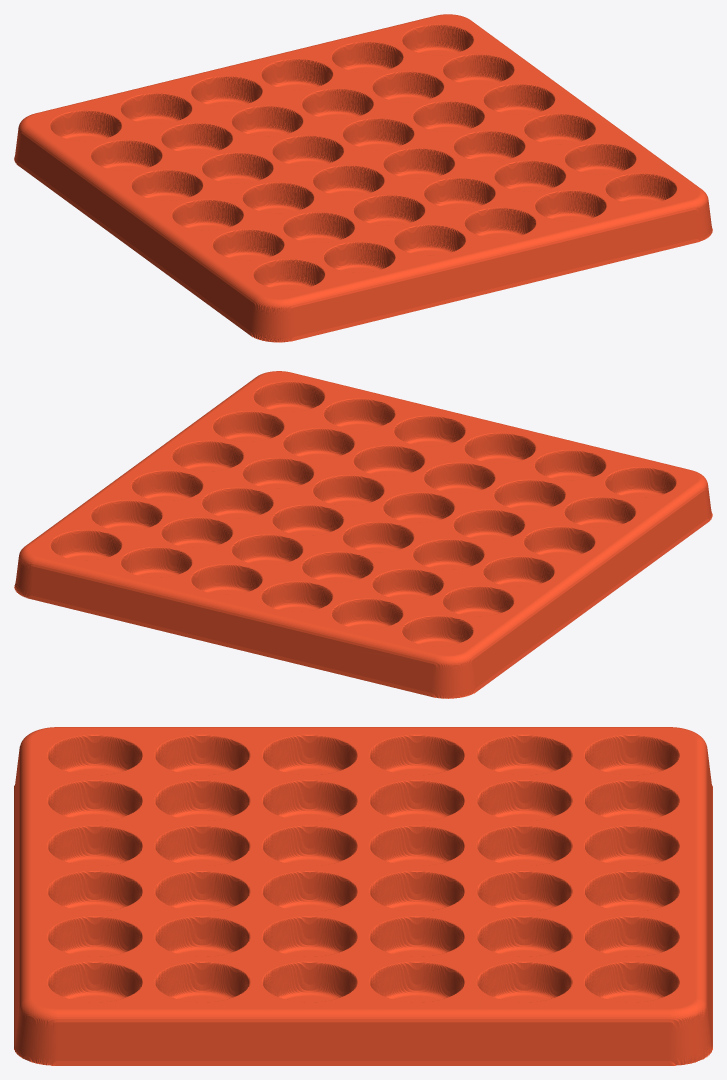
The model's file is mold.glb.
3 renders of one model, top to bottom at view 1: azimuth 30°, elevation 25°; view 2: azimuth 150°, elevation 25°; view 3: azimuth 270°, elevation 25°, orthographic. The views are drawn at different scales.
Visible parts, largest first — view 1: geometry_0; view 2: geometry_0; view 3: geometry_0.
Boxes of the visible parts, left/top/right/bottom form: geometry_0: left=14, top=14, right=712, bottom=342; geometry_0: left=14, top=371, right=712, bottom=698; geometry_0: left=14, top=727, right=712, bottom=1065.
Size of the model in its own units: 0.1447 by 0.0114 by 0.1447.
